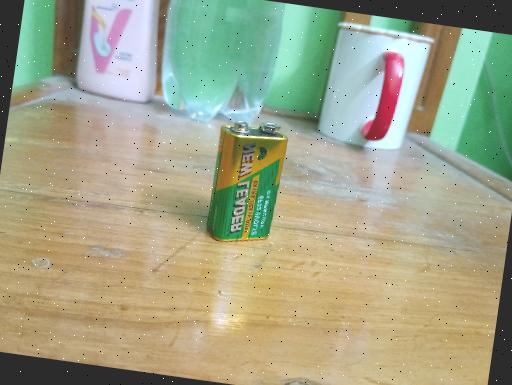Battery: (205, 114, 291, 249)
